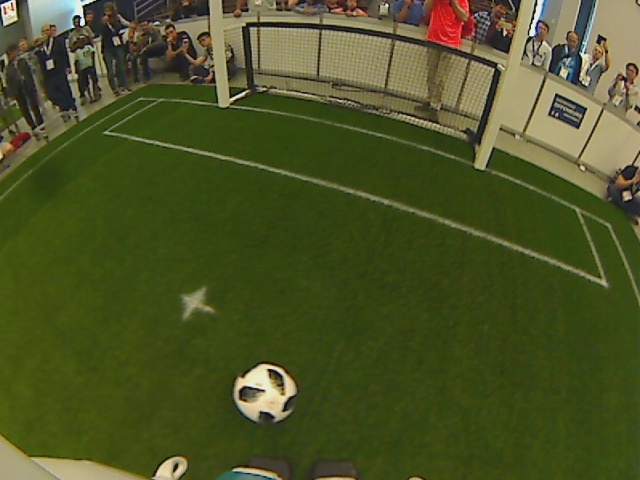ball: (231, 360, 298, 426)
